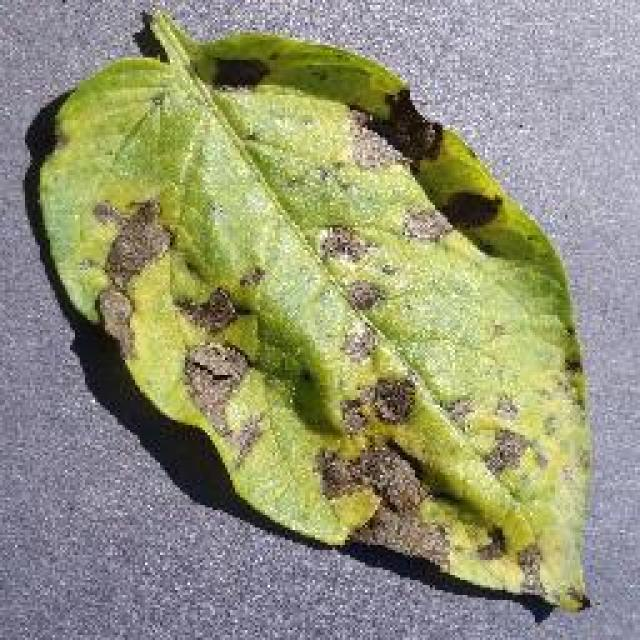Potato___Early_blight: (34, 6, 599, 616)
